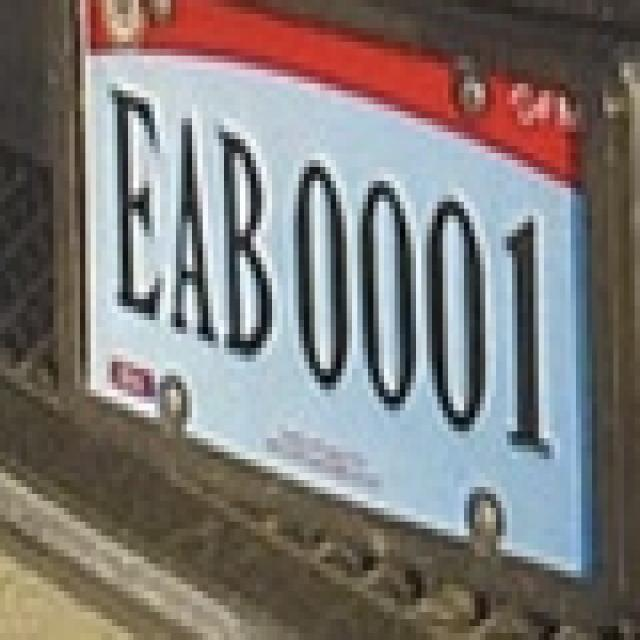0: (421, 176, 498, 440), (344, 158, 420, 420), (284, 143, 356, 404)
1: (500, 200, 564, 487)
A: (166, 96, 222, 355)
B: (213, 117, 278, 377)
E: (99, 62, 168, 322)
